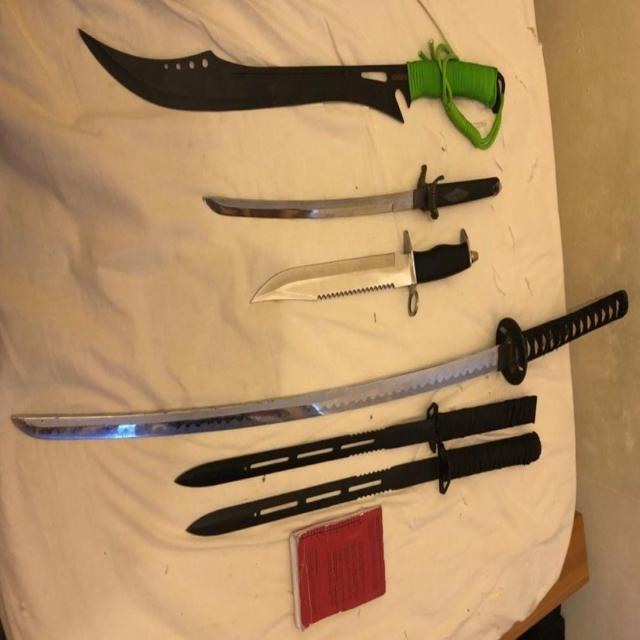Sharp-Object: (8, 292, 640, 438), (204, 168, 504, 225), (251, 234, 474, 304)
